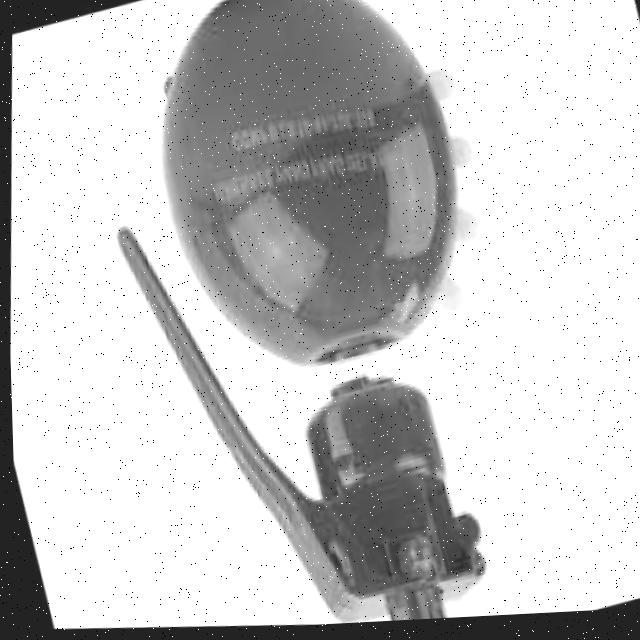grenade: (39, 0, 602, 638)
